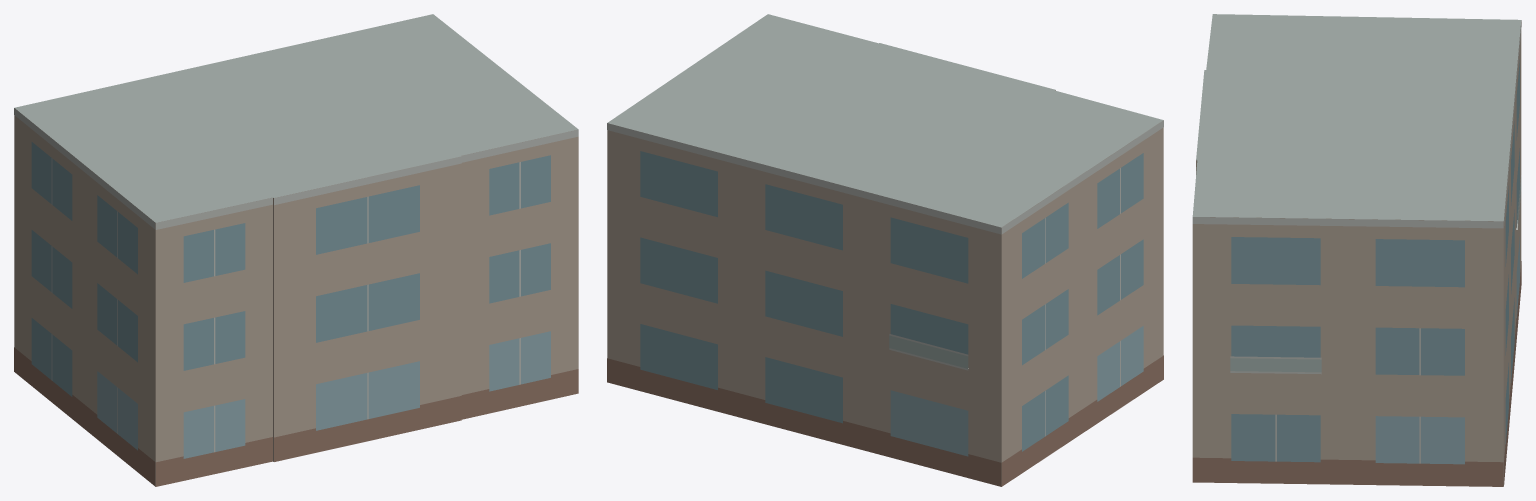
The model's file is survey-upis-32653430.glb.
3 views of the same model, side by side, from view 1: azimuth 30°, elevation 25°; view 2: azimuth 150°, elevation 25°; view 3: azimuth 270°, elevation 25° (orthographic). The views are drawn at different scales.
Visible parts, largest first — view 1: survey-upis-32653430.tmp; view 2: survey-upis-32653430.tmp; view 3: survey-upis-32653430.tmp.
Boxes of the visible parts, <box> form: survey-upis-32653430.tmp: <box>14,14,578,486</box>; survey-upis-32653430.tmp: <box>607,14,1163,486</box>; survey-upis-32653430.tmp: <box>1192,14,1521,486</box>.
Size of the model in its own units: 15.07 by 9 by 10.1.
